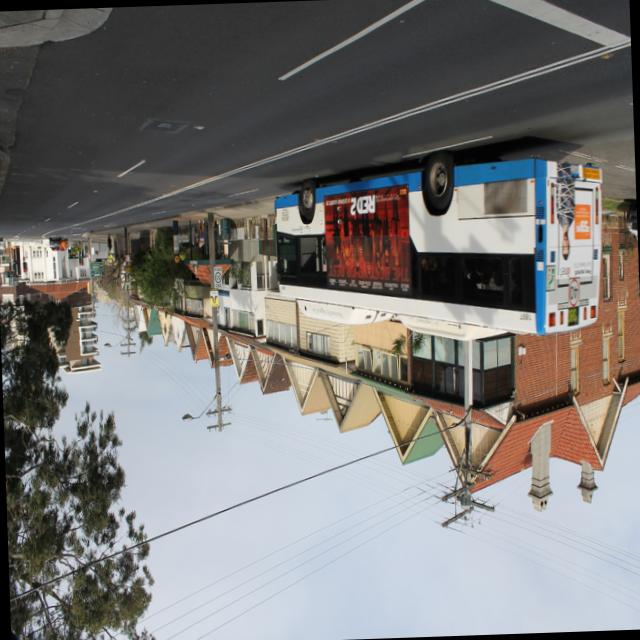bus: (271, 143, 610, 350)
